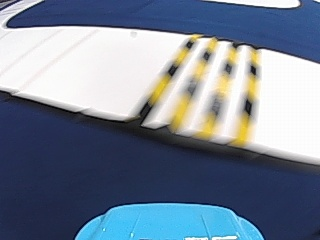bump: (138, 35, 262, 139)
